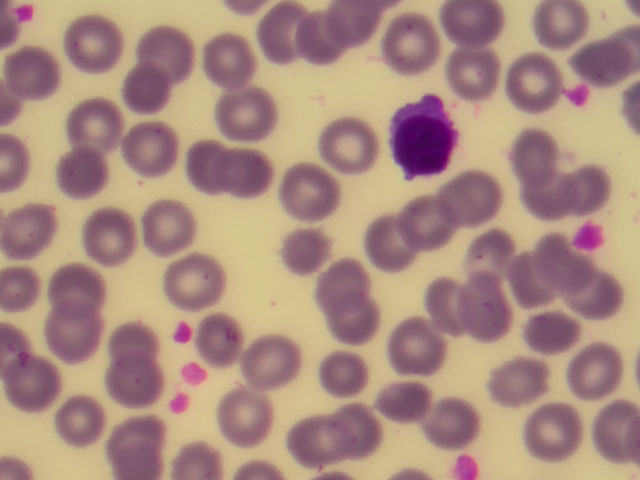Platelets: (574, 219, 609, 258), (164, 386, 198, 416), (565, 82, 594, 117), (447, 451, 481, 480), (165, 320, 198, 345), (183, 360, 206, 389), (14, 1, 41, 23)
RBC: (126, 21, 196, 90), (198, 21, 268, 90), (283, 4, 353, 73), (375, 14, 445, 83), (438, 39, 508, 108), (499, 46, 569, 115), (570, 15, 640, 84), (59, 12, 129, 80), (9, 38, 79, 106), (59, 91, 129, 159), (41, 130, 111, 198), (114, 117, 184, 185), (114, 63, 184, 131), (206, 77, 276, 145), (165, 130, 235, 198), (205, 142, 275, 210), (273, 151, 343, 219), (316, 115, 386, 183), (436, 165, 506, 233), (395, 192, 465, 260), (348, 217, 418, 285), (265, 209, 335, 277), (154, 244, 224, 312), (134, 195, 204, 263), (73, 197, 143, 265), (49, 247, 119, 315), (31, 300, 101, 368), (96, 300, 166, 368), (100, 347, 170, 415), (41, 388, 111, 456), (105, 411, 175, 479), (217, 380, 287, 448), (247, 320, 317, 388), (195, 304, 265, 372), (317, 338, 387, 406), (329, 397, 399, 465), (278, 411, 348, 479), (361, 367, 431, 435), (380, 320, 450, 388), (324, 296, 394, 364), (312, 256, 382, 324), (412, 271, 482, 339), (446, 275, 516, 343), (465, 225, 535, 293), (495, 245, 565, 313), (540, 252, 610, 320), (518, 298, 588, 366), (482, 341, 552, 409), (568, 328, 638, 396), (513, 394, 583, 462), (1, 196, 70, 264), (1, 342, 70, 410), (247, 1, 317, 68), (438, 1, 508, 68), (526, 1, 596, 68)
WBC: (386, 96, 462, 182)
